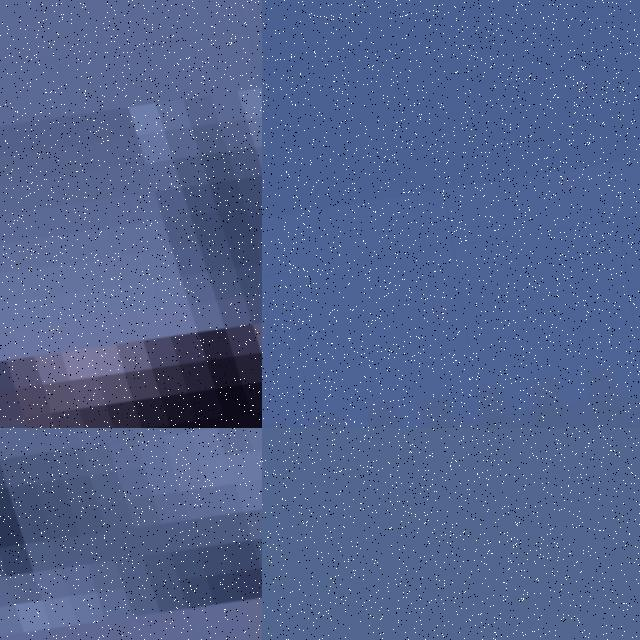drone: (0, 0, 262, 428), (0, 428, 262, 640)
